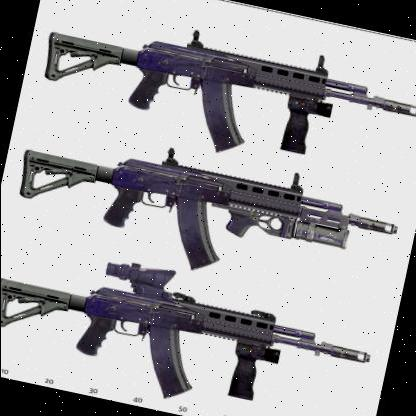rifle: (2, 124, 403, 316), (34, 0, 416, 193), (0, 237, 387, 416)
